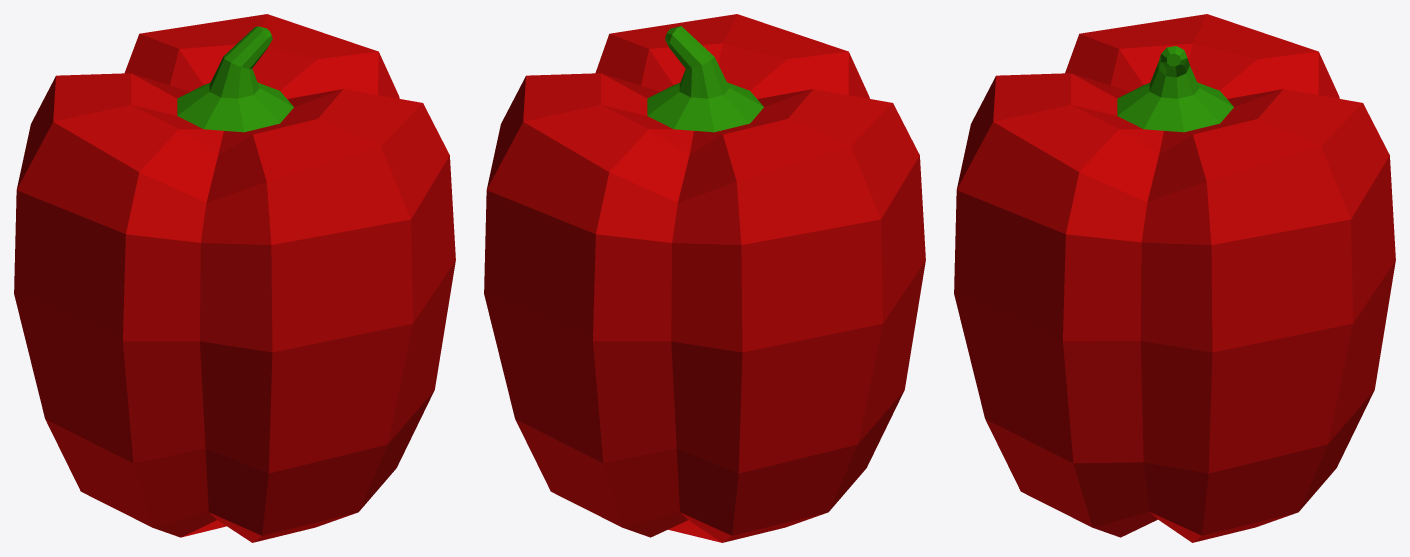
File: pepperfruit01.gltf
The picture shows the model from 3 angles, left to right: view 1: azimuth 30°, elevation 25°; view 2: azimuth 150°, elevation 25°; view 3: azimuth 270°, elevation 25°; orthographic projection.
Parts seen in each view (by area): view 1: Cylinder.002; view 2: Cylinder.002; view 3: Cylinder.002.
Boxes of the visible parts, x1,y1,x2,y2 form: Cylinder.002: (14,14,455,542); Cylinder.002: (484,14,925,542); Cylinder.002: (954,14,1395,542).
Bounding box in the file's own units: 0.0766 × 0.0875 × 0.0754.
1 material, 1 textured.
